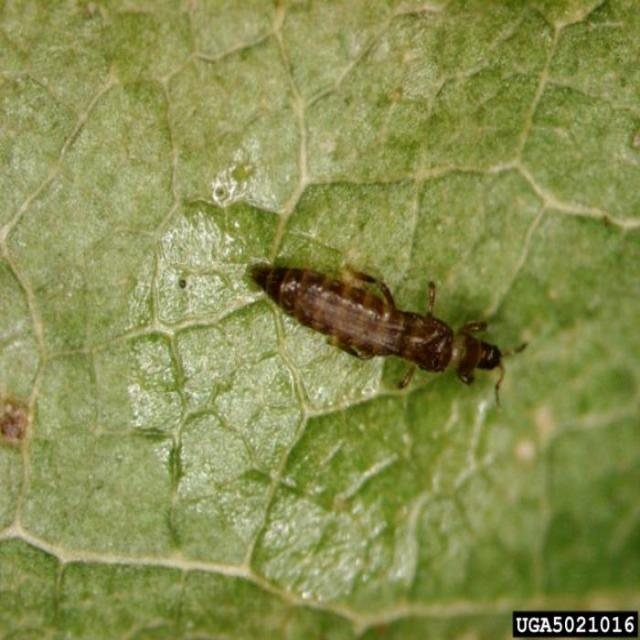Thrip-Adult-: (233, 243, 536, 405)
